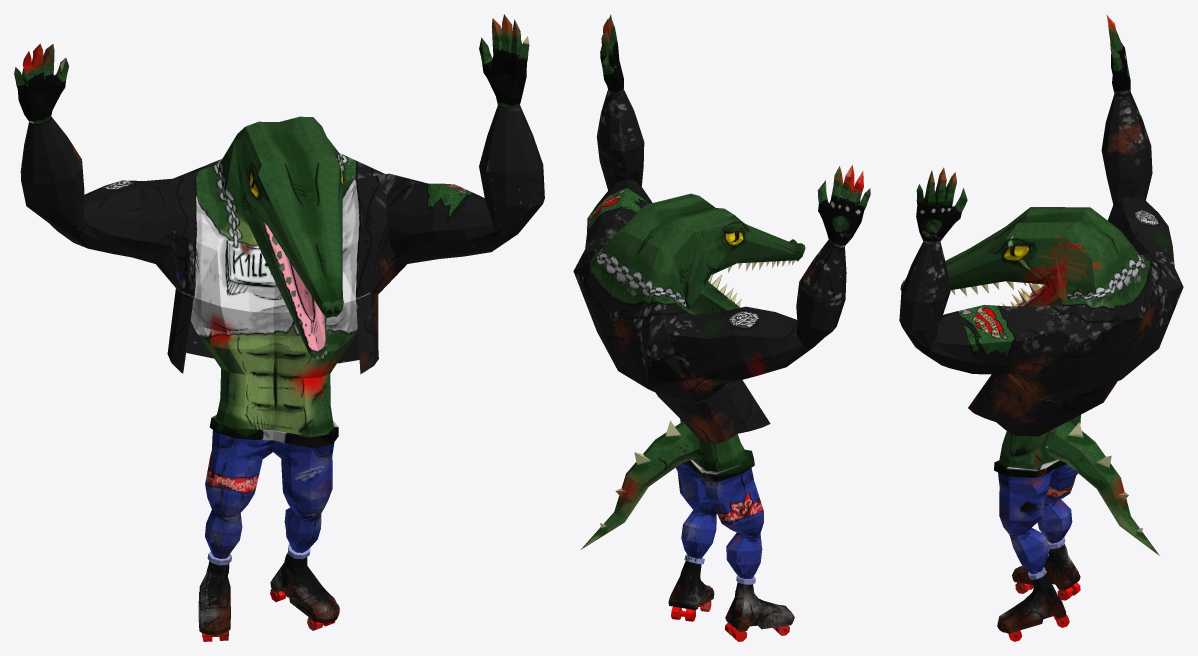
Rendered from cocodrilaBonesSelect_000043.obj.
The picture shows the model from 3 angles, left to right: view 1: azimuth 30°, elevation 25°; view 2: azimuth 150°, elevation 25°; view 3: azimuth 270°, elevation 25°; orthographic projection. The views are drawn at different scales.
Visible parts, largest first — view 1: Crocodile.002_Cylinder.002; view 2: Crocodile.002_Cylinder.002; view 3: Crocodile.002_Cylinder.002.
Part boxes in pixels (box(x1,y1,x2,y2)): Crocodile.002_Cylinder.002: box(14, 14, 544, 641); Crocodile.002_Cylinder.002: box(573, 14, 870, 641); Crocodile.002_Cylinder.002: box(899, 14, 1183, 641).
Size of the model in its own units: 5.92 by 8.25 by 4.
